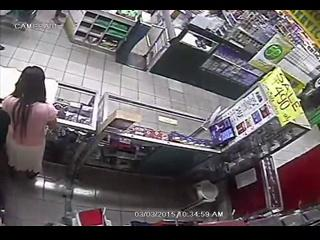Normal: (0, 66, 59, 178)
